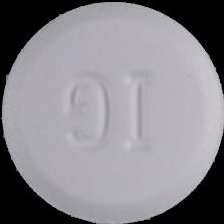10544-112: (0, 0, 224, 224)
